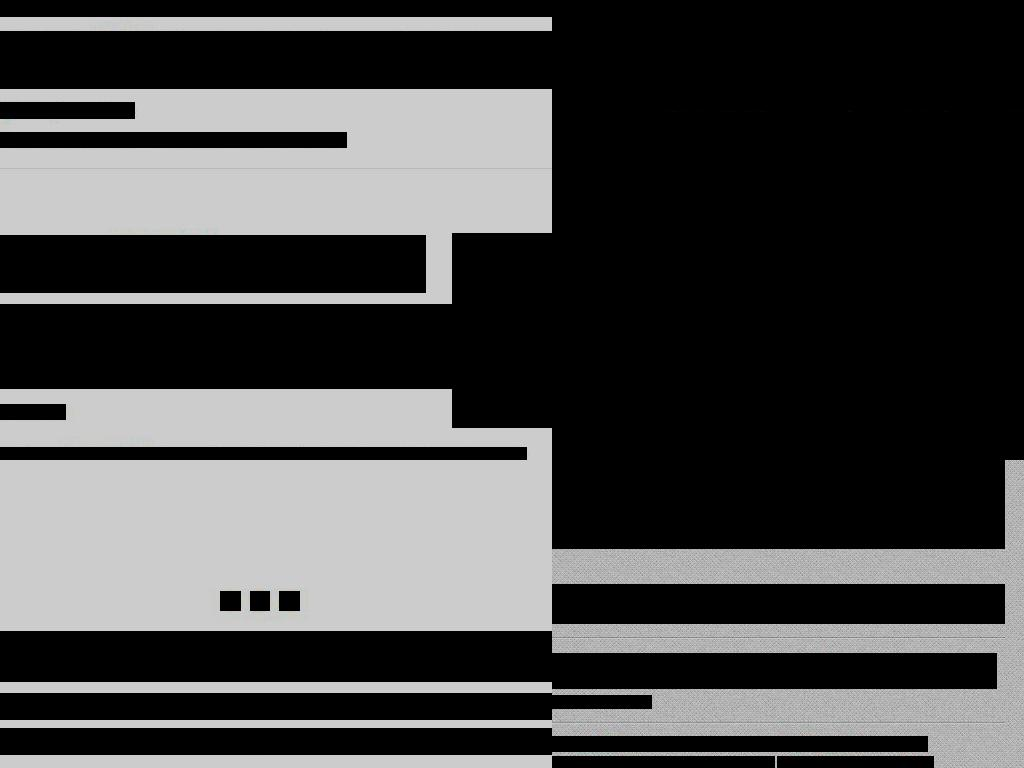button: (552, 151, 1024, 195), (554, 125, 650, 141), (968, 125, 1024, 141), (872, 125, 923, 141), (783, 125, 827, 141), (651, 0, 694, 16), (695, 125, 738, 141), (588, 0, 614, 17), (552, 0, 570, 17)
heading: (0, 631, 440, 682), (552, 404, 754, 460), (552, 380, 765, 428), (0, 0, 552, 17), (552, 356, 795, 380), (438, 631, 552, 682), (770, 172, 1024, 186)
iframe: (552, 460, 1005, 549)
image: (552, 199, 1024, 460), (552, 198, 801, 460), (452, 233, 552, 428), (831, 0, 1024, 88), (588, 0, 614, 17), (220, 591, 241, 611), (279, 591, 300, 611), (250, 591, 270, 611), (658, 3, 689, 13), (552, 0, 570, 17)
link: (10, 132, 133, 148), (777, 756, 934, 768), (152, 132, 262, 148), (638, 756, 775, 768), (117, 235, 214, 251), (781, 736, 864, 752), (552, 736, 633, 752), (552, 653, 632, 669), (59, 447, 152, 460), (0, 404, 66, 420), (781, 653, 843, 669), (552, 756, 623, 768), (0, 52, 53, 68), (93, 31, 144, 47), (0, 102, 32, 119)
text: (0, 304, 552, 389), (0, 235, 426, 293), (0, 31, 552, 68), (0, 52, 552, 89), (552, 653, 997, 689), (0, 693, 552, 720), (0, 728, 552, 755), (552, 584, 1005, 604), (552, 604, 1005, 624), (282, 447, 527, 460), (630, 653, 781, 669), (632, 736, 783, 752), (0, 235, 118, 251), (32, 102, 135, 119), (554, 125, 650, 141), (0, 31, 93, 47), (261, 132, 347, 148), (864, 736, 928, 752), (968, 125, 1024, 141), (152, 447, 218, 460), (217, 447, 283, 460), (872, 125, 923, 141), (552, 695, 605, 709), (783, 125, 827, 141), (695, 125, 738, 141), (605, 695, 652, 709), (132, 132, 153, 148), (622, 756, 638, 768)
